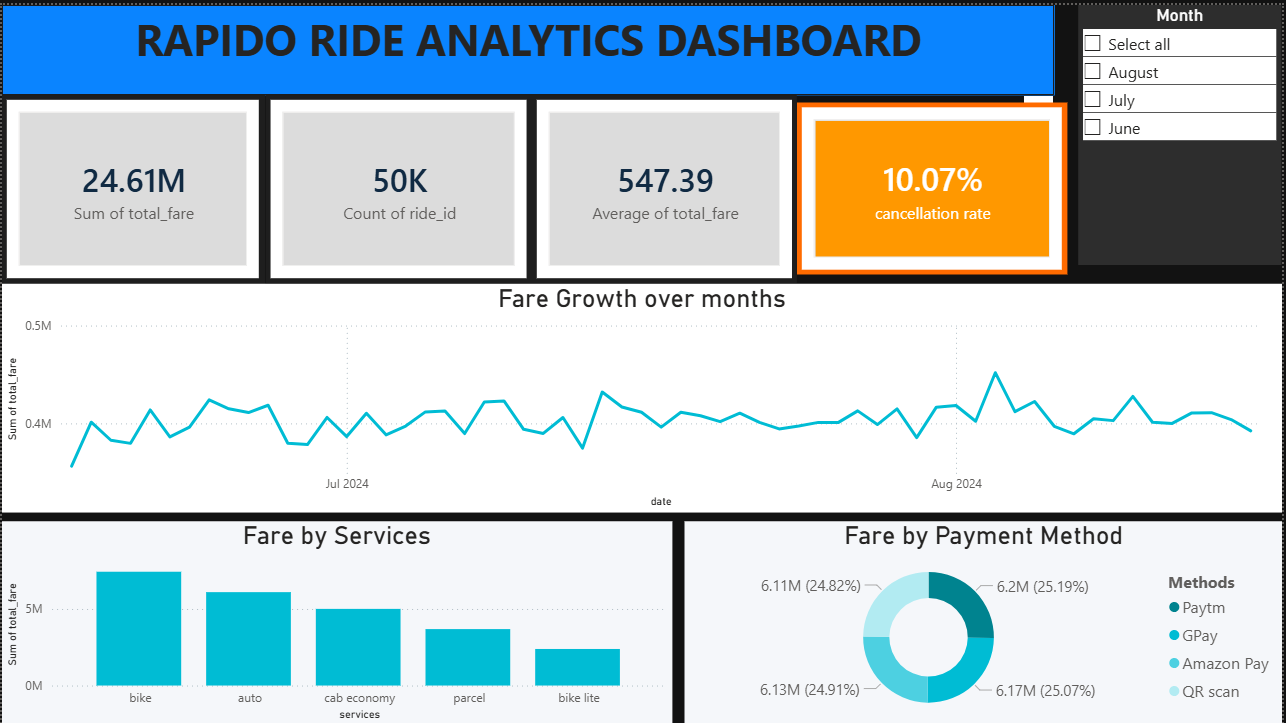

Layout of this report page (visuals, bound fields, positions):
{"tool":"powerbi","page":{"name":"Rapido Analytics dashboard","canvas":[1280,720],"ordinal":0},"visuals":[{"type":"textbox","box":[0,0,1052.9,90],"z":0},{"type":"cardVisual","fields":{"Data":["Sum(rides_data.total_fare)"]},"box":[0,90,262.9,188.6],"z":1000},{"type":"listSlicer","fields":{"Values":["DimDate.Month"]},"box":[1076.9,0,203.1,260.2],"z":2000},{"type":"lineChart","title":"Fare Growth over months","fields":{"Y":["Sum(rides_data.total_fare)"],"Category":["rides_data.date.Variation.Date Hierarchy.Year"]},"box":[0,278.6,1280,228.6],"z":3000},{"type":"columnChart","title":"Fare by Services","fields":{"Category":["rides_data.services"],"Y":["Sum(rides_data.total_fare)"]},"box":[0,515.7,670,204.3],"z":4000},{"type":"donutChart","title":"Fare by Payment Method ","fields":{"Category":["rides_data.payment_method"],"Y":["Sum(rides_data.total_fare)"]},"box":[682,516.2,598.4,204.5],"z":5000},{"type":"cardVisual","fields":{"Data":["Count(rides_data.ride_id)"]},"box":[263.3,90,266.7,188.3],"z":6000},{"type":"cardVisual","fields":{"Data":["Avg(rides_data.total_fare)"]},"box":[530,90,265,188.3],"z":7000},{"type":"cardVisual","fields":{"Data":["rides_data.cancellation rate"]},"box":[795.6,97.8,270,172.2],"z":8000}]}

Visuals, with their boxes in screenshot pixels (x1, y1, x2, y2), scaled from the page's 1280x720 canvas onto the 1286x723 screenshot:
textbox: {"x1": 0, "y1": 0, "x2": 1058, "y2": 90}
cardVisual - Sum(rides_data.total_fare): {"x1": 0, "y1": 90, "x2": 264, "y2": 280}
listSlicer - DimDate.Month: {"x1": 1082, "y1": 0, "x2": 1285, "y2": 261}
"Fare Growth over months" lineChart: {"x1": 0, "y1": 280, "x2": 1285, "y2": 509}
"Fare by Services" columnChart: {"x1": 0, "y1": 518, "x2": 673, "y2": 722}
"Fare by Payment Method " donutChart: {"x1": 685, "y1": 518, "x2": 1285, "y2": 722}
cardVisual - Count(rides_data.ride_id): {"x1": 265, "y1": 90, "x2": 532, "y2": 279}
cardVisual - Avg(rides_data.total_fare): {"x1": 532, "y1": 90, "x2": 799, "y2": 279}
cardVisual - rides_data.cancellation rate: {"x1": 799, "y1": 98, "x2": 1071, "y2": 271}
